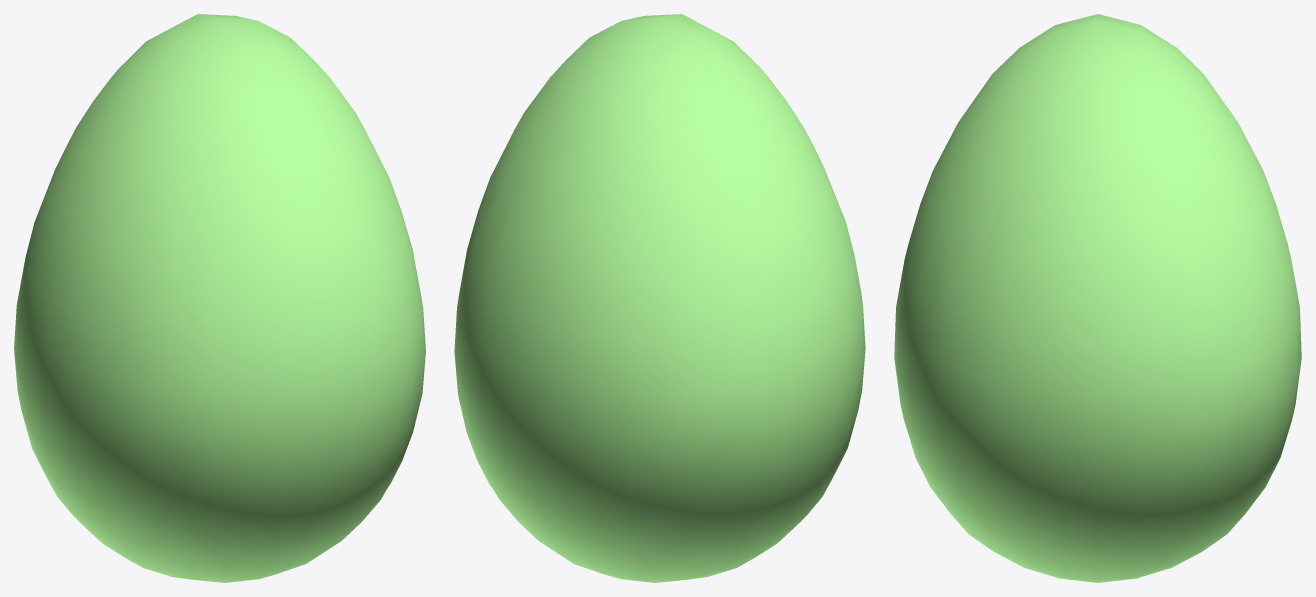
Rendered from chocolateegg_green.glb.
The picture shows the model from 3 angles, left to right: view 1: azimuth 30°, elevation 25°; view 2: azimuth 150°, elevation 25°; view 3: azimuth 270°, elevation 25°; orthographic projection.
Visible parts, largest first — view 1: ChocolateEgg_LOD0; view 2: ChocolateEgg_LOD0; view 3: ChocolateEgg_LOD0.
Part boxes in pixels (x1,y1,x2,y2): ChocolateEgg_LOD0: (14,14,425,582); ChocolateEgg_LOD0: (454,14,865,582); ChocolateEgg_LOD0: (894,14,1301,582).
Size of the model in its own units: 0.1713 by 0.2519 by 0.1713.
1 material, 1 textured.
